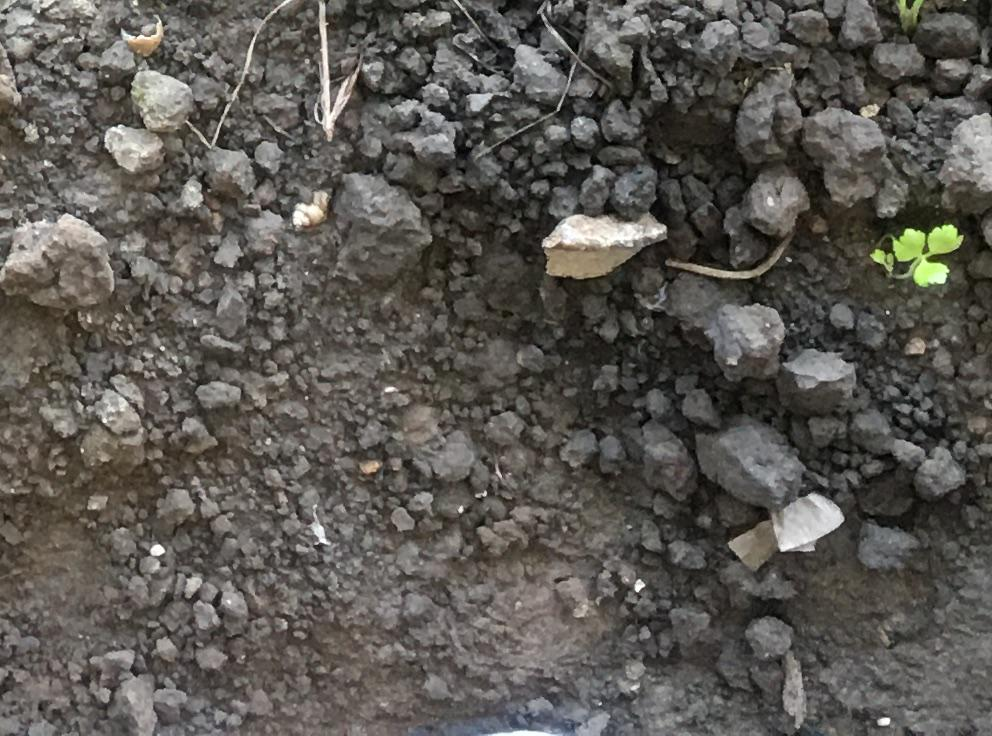block: (671, 270, 789, 382), (325, 166, 431, 287), (691, 410, 804, 514), (1, 215, 115, 317)
